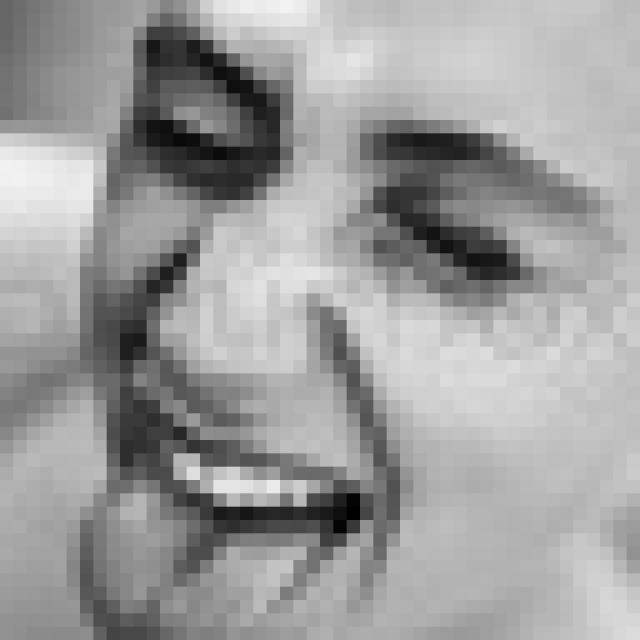disgust: (71, 25, 554, 640)
